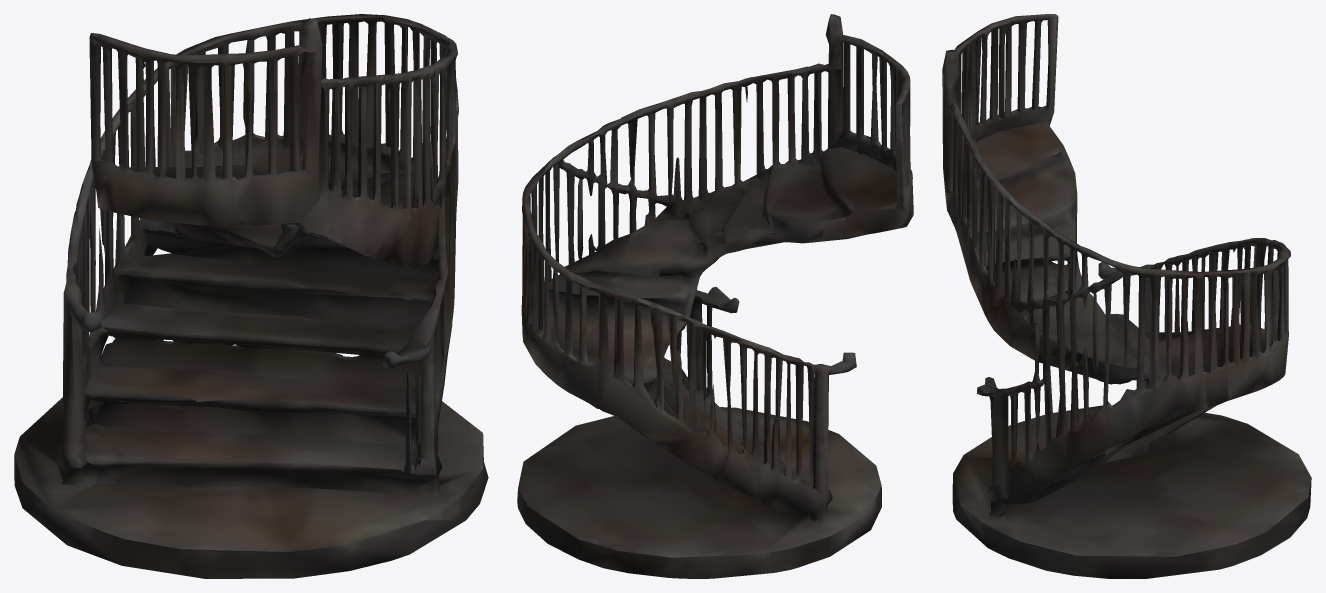
Rendered from old-iron-spiral-staircase-v001.glb.
The picture shows the model from 3 angles, left to right: view 1: azimuth 30°, elevation 25°; view 2: azimuth 150°, elevation 25°; view 3: azimuth 270°, elevation 25°; orthographic projection. The views are drawn at different scales.
Parts seen in each view (by area): view 1: old-iron-spiral-staircase; view 2: old-iron-spiral-staircase; view 3: old-iron-spiral-staircase.
Part boxes in pixels (box(x1,y1,x2,y2)): old-iron-spiral-staircase: box(14, 14, 488, 578); old-iron-spiral-staircase: box(517, 14, 913, 578); old-iron-spiral-staircase: box(942, 14, 1311, 578).
Size of the model in its own units: 2.14 by 2.75 by 2.13.
Materials: 1 (1 with a texture image).
